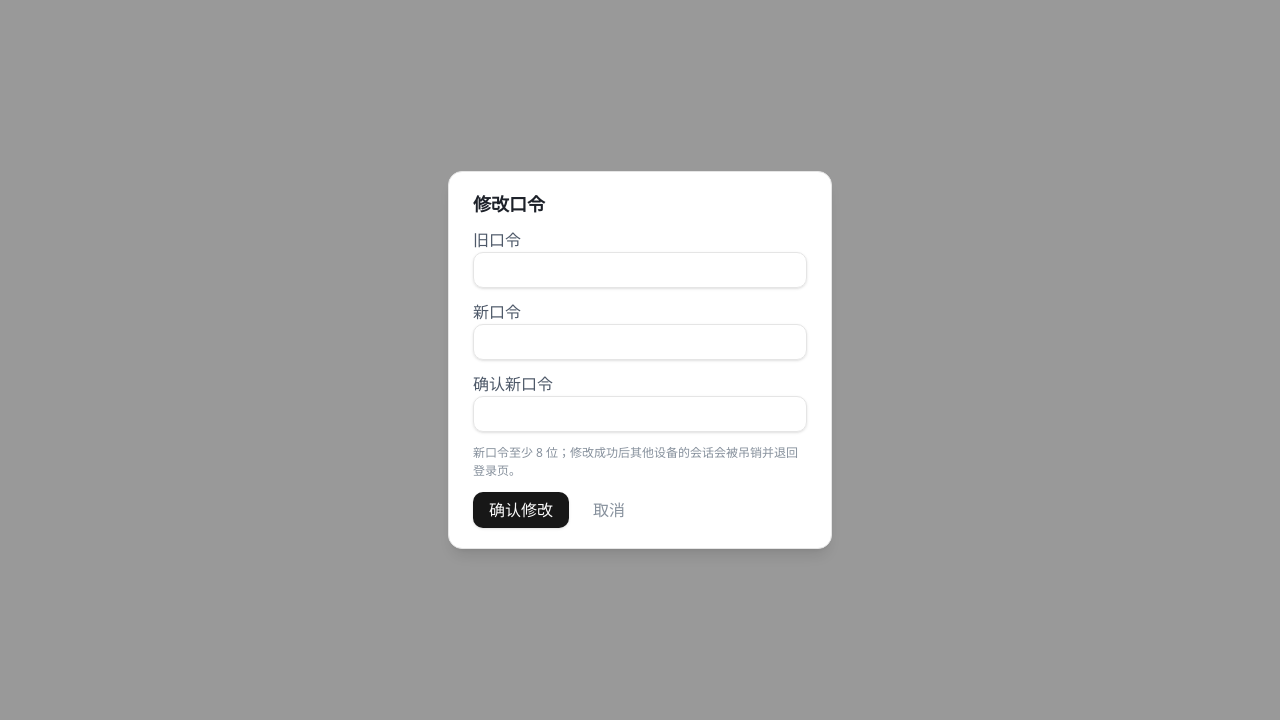
旧口令错：401 detail 上屏
This screenshot has width=1280, height=720.
Step 1. Type "wrong" into the password field labelled "旧口令" → (640, 270), box [473,252,807,288]
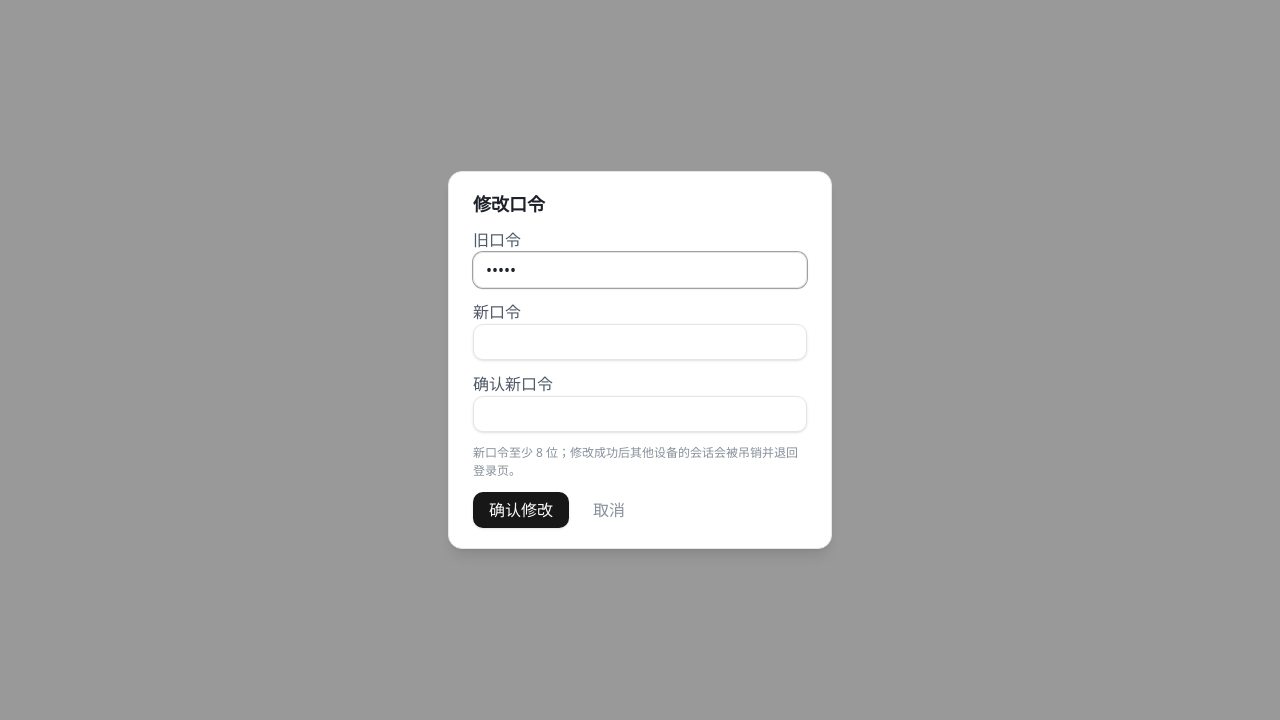
Step 2. Type "New-Pass-9" into the password field labelled "新口令" → (640, 342), box [473,324,807,360]
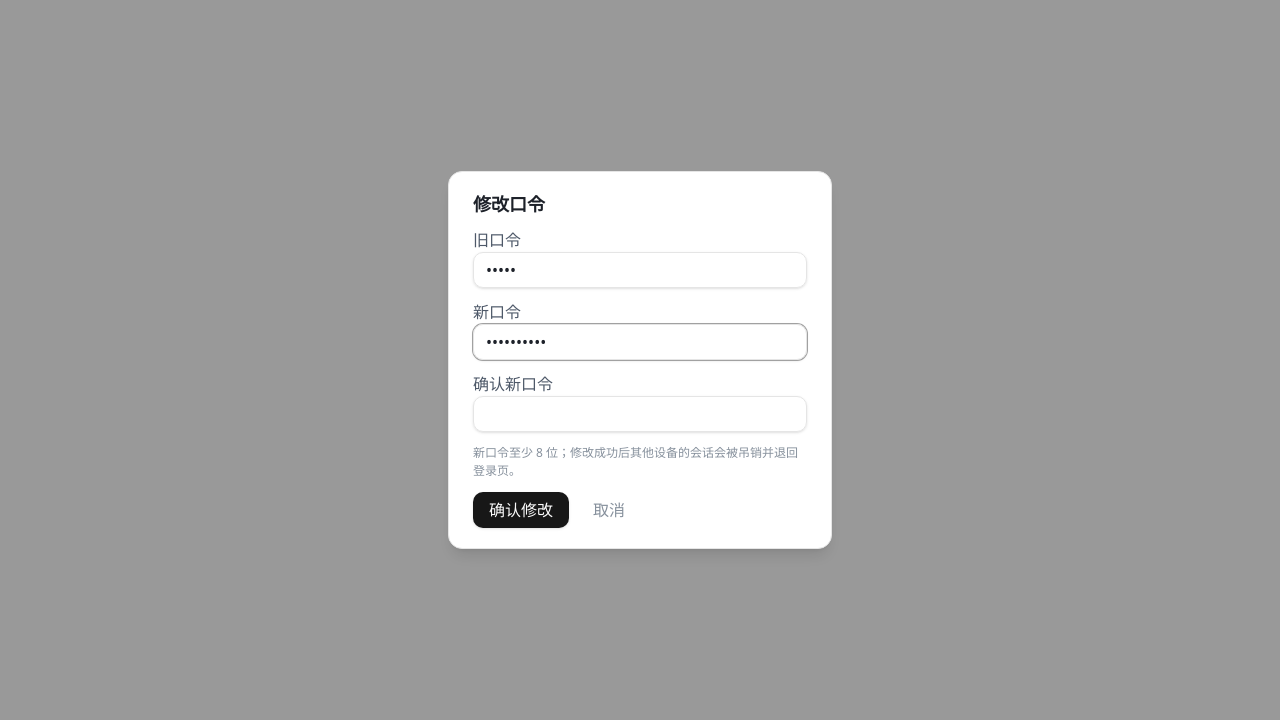
Step 3. Type "New-Pass-9" into the password field labelled "确认新口令" → (640, 414), box [473,396,807,432]
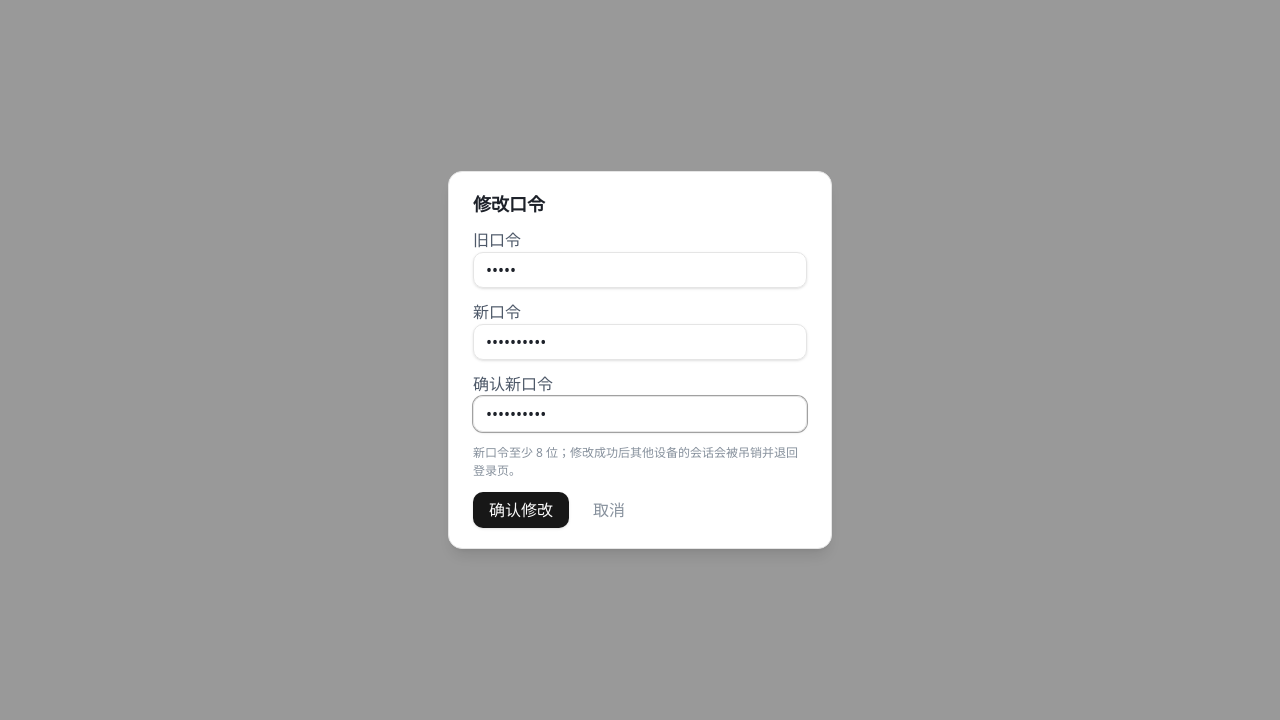
Step 4. Click the button "确认修改" → (521, 510), box [473,492,569,528]
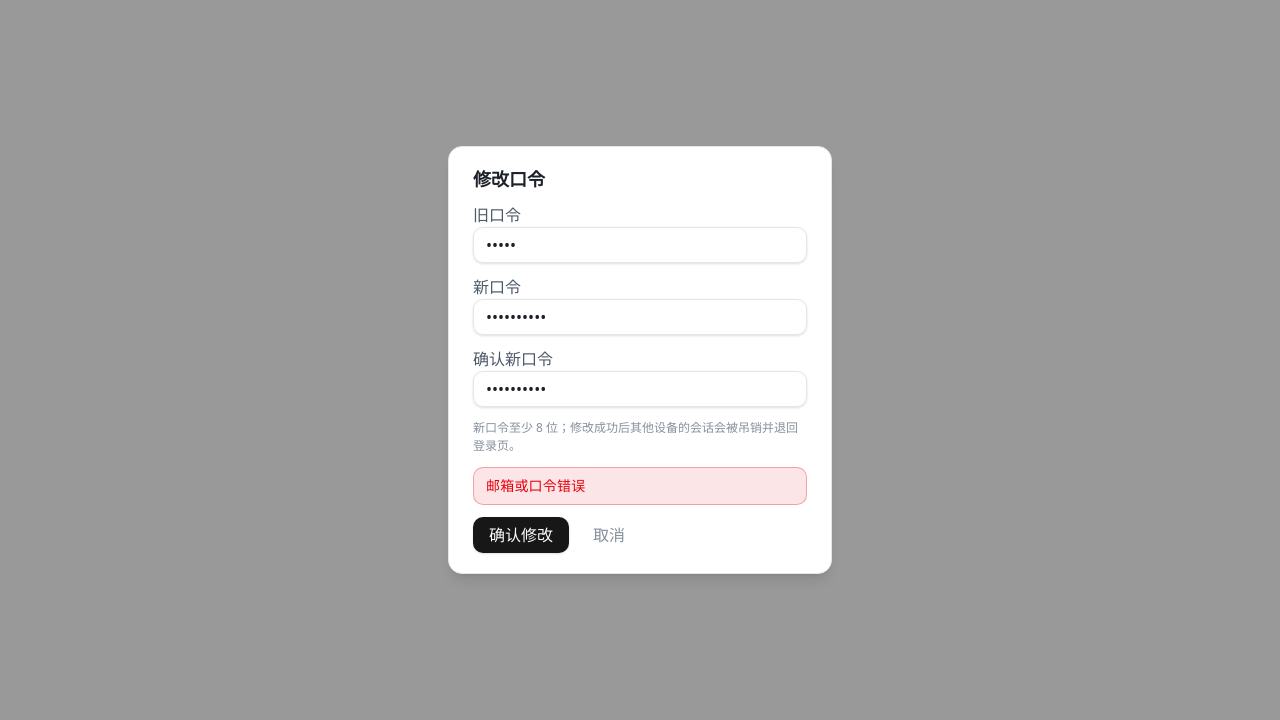
Expected: the text "邮箱或口令错误" is shown, [473,467,807,505]
